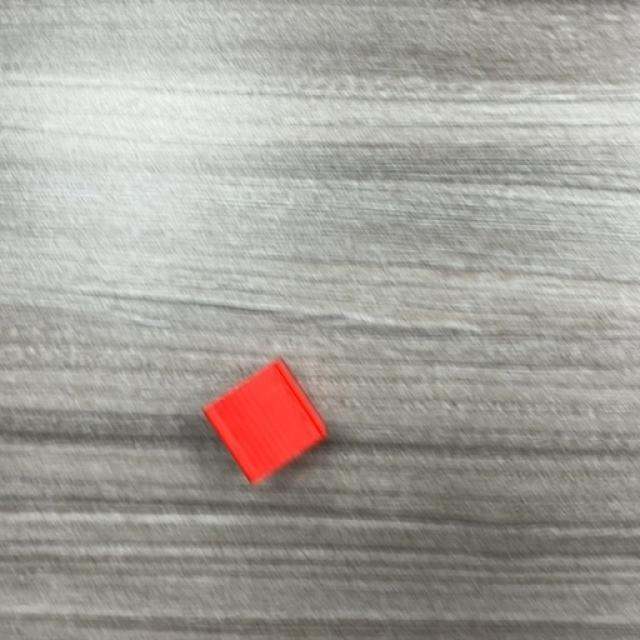Rojo: (200, 360, 329, 486)
